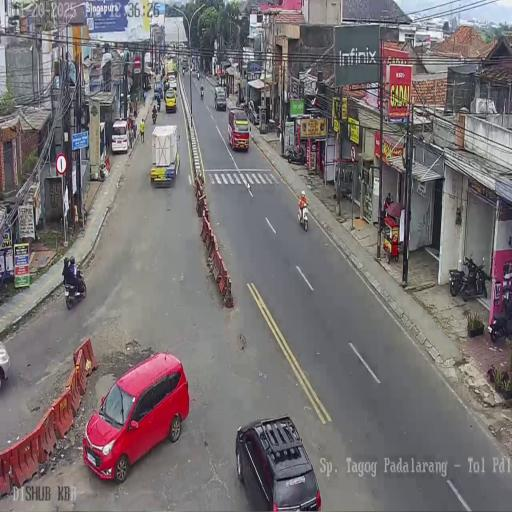3: (150, 124, 180, 186), (165, 59, 176, 82), (144, 52, 153, 74), (182, 58, 188, 69)
car: (82, 351, 190, 482), (236, 415, 320, 511), (111, 118, 131, 154), (0, 339, 10, 387), (164, 88, 177, 113), (214, 87, 226, 110), (154, 80, 164, 100)
truck: (459, 254, 488, 300), (488, 301, 512, 342), (64, 266, 86, 310), (284, 144, 306, 166), (298, 199, 308, 231), (240, 99, 250, 117), (276, 120, 281, 139), (152, 106, 157, 124), (156, 95, 161, 111), (200, 88, 203, 100), (197, 72, 200, 80), (182, 68, 185, 76)
